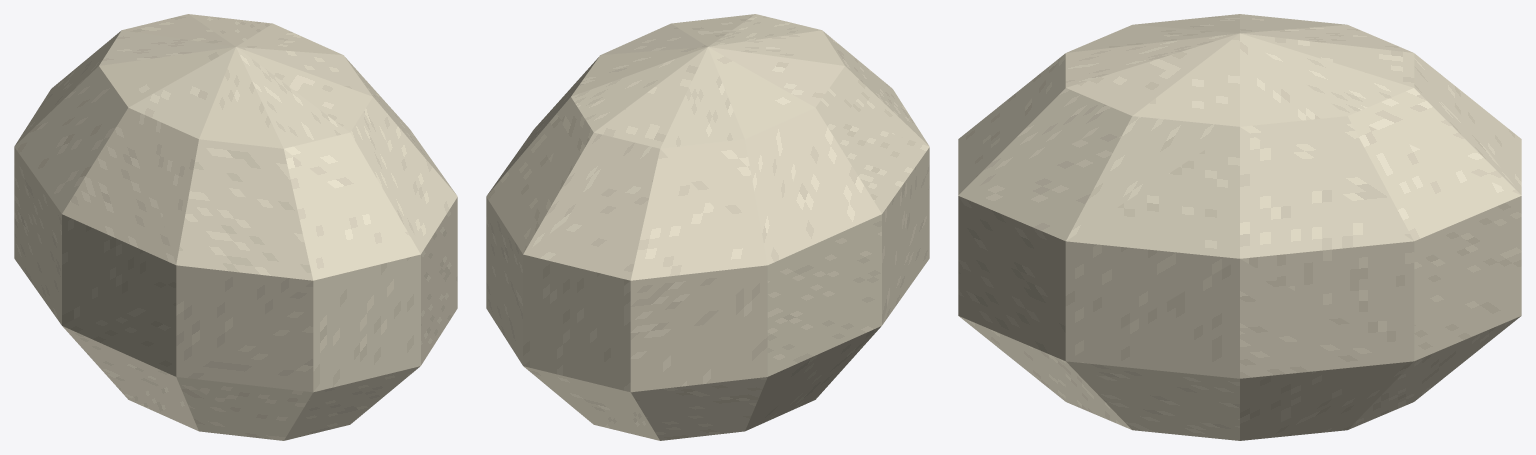
Rendered from egg_coot.glb.
3 renders of one model, left to right at view 1: azimuth 30°, elevation 25°; view 2: azimuth 150°, elevation 25°; view 3: azimuth 270°, elevation 25°, orthographic. The views are drawn at different scales.
Visible parts, largest first — view 1: block_egg shell; view 2: block_egg shell; view 3: block_egg shell.
Part boxes in pixels (left/top/right/bottom): block_egg shell: left=14, top=14, right=457, bottom=440; block_egg shell: left=486, top=14, right=929, bottom=440; block_egg shell: left=958, top=14, right=1521, bottom=440.
Bounding box in the file's own units: 0.0389 × 0.0386 × 0.0508.
1 material, 1 textured.
